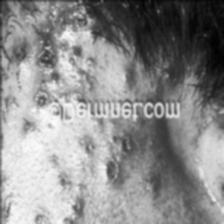Toxin: (0, 127, 130, 224), (0, 0, 89, 104)
